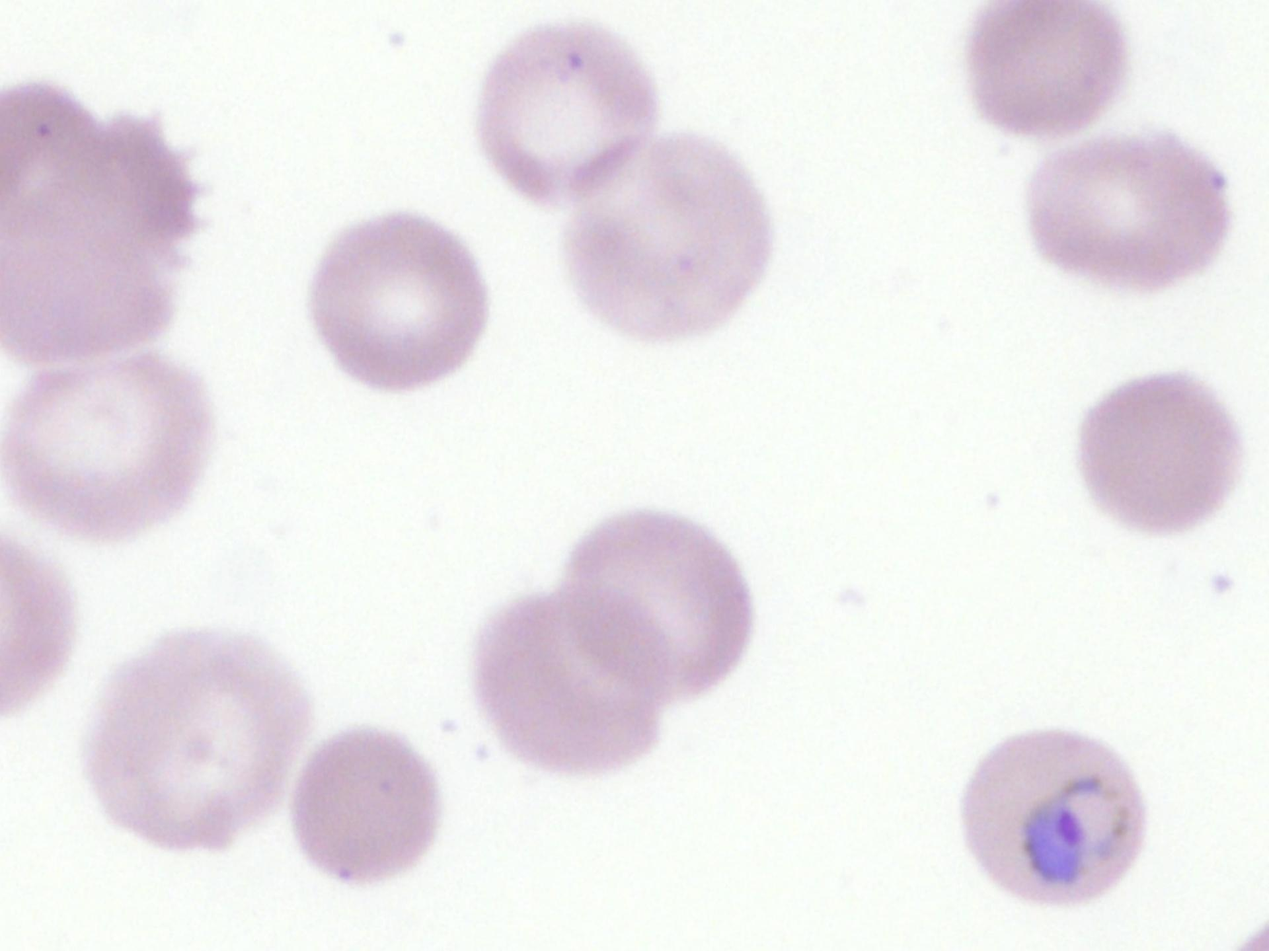Infected: (963, 727, 1146, 908)
Uninfected: (84, 633, 308, 851), (567, 139, 769, 339), (0, 359, 218, 541), (476, 590, 670, 777), (562, 509, 755, 695), (474, 20, 661, 206), (309, 212, 488, 391), (1024, 128, 1228, 284), (1077, 375, 1237, 539), (960, 0, 1124, 138), (292, 727, 439, 880)
